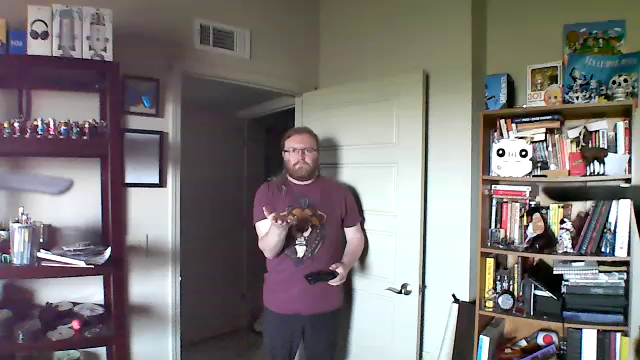land: (258, 204, 297, 229)
